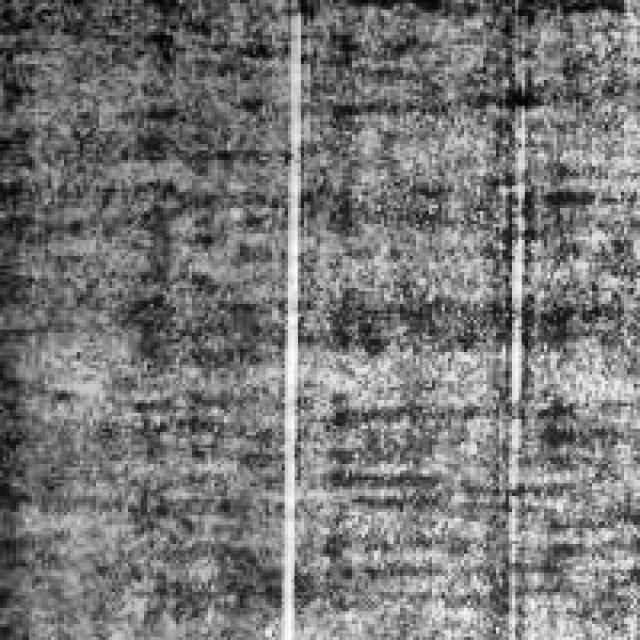Inclusion: (266, 9, 310, 634)
